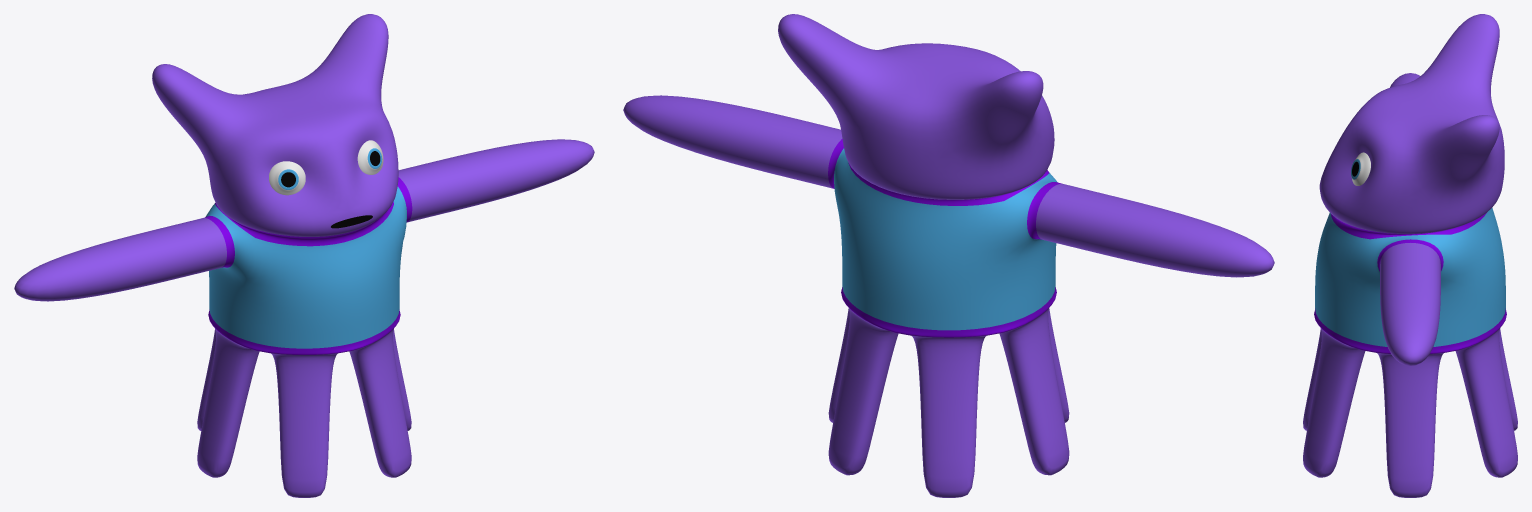
File: Fimo_sub3.fbx
The picture shows the model from 3 angles, left to right: view 1: azimuth 30°, elevation 25°; view 2: azimuth 150°, elevation 25°; view 3: azimuth 270°, elevation 25°; orthographic projection. The views are drawn at different scales.
Parts seen in each view (by area): view 1: Fimo; view 2: Fimo; view 3: Fimo.
Boxes of the visible parts, <box> form: Fimo: <box>14,14,594,497</box>; Fimo: <box>623,14,1274,497</box>; Fimo: <box>1303,14,1517,497</box>.
Size of the model in its own units: 223 by 141 by 71.71.
